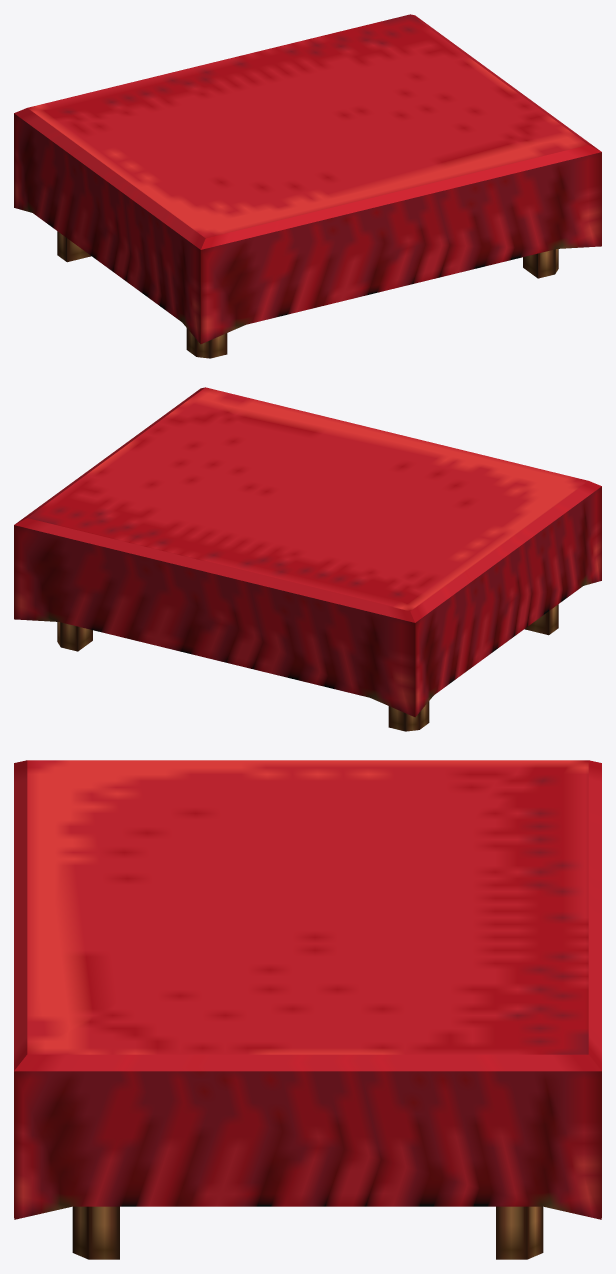
File: Inside_Poly_Table_03.obj
The picture shows the model from 3 angles, top to bottom: view 1: azimuth 30°, elevation 25°; view 2: azimuth 150°, elevation 25°; view 3: azimuth 270°, elevation 25°; orthographic projection. The views are drawn at different scales.
Visible parts, largest first — view 1: Cube_Cube.004, Cube.001; view 2: Cube_Cube.004, Cube.001; view 3: Cube_Cube.004, Cube.001.
Boxes of the visible parts, x1=… form: Cube_Cube.004: x1=14, y1=14, x2=601, y2=344; Cube.001: x1=57, y1=231, x2=558, y2=358; Cube_Cube.004: x1=14, y1=387, x2=601, y2=717; Cube.001: x1=57, y1=604, x2=558, y2=731; Cube_Cube.004: x1=14, y1=760, x2=601, y2=1219; Cube.001: x1=72, y1=1206, x2=543, y2=1259.
Bounding box in the file's own units: 1.55 × 0.5 × 1.25.
1 material, 1 textured.
